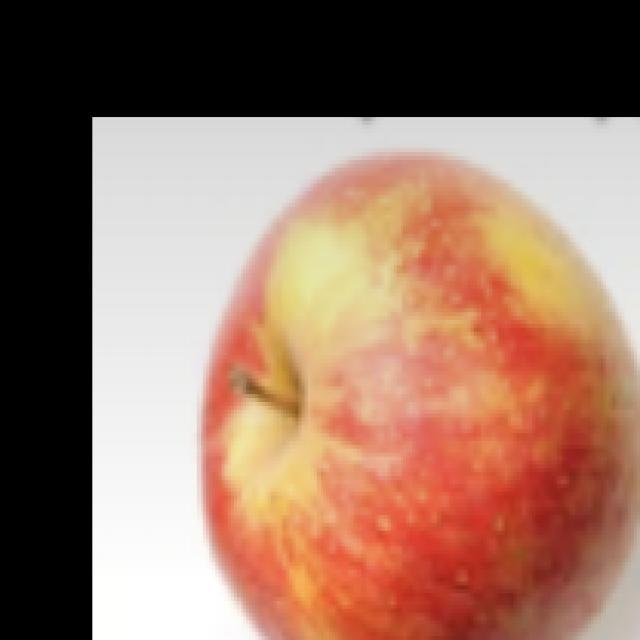Fresh Apple: (217, 155, 628, 640)
